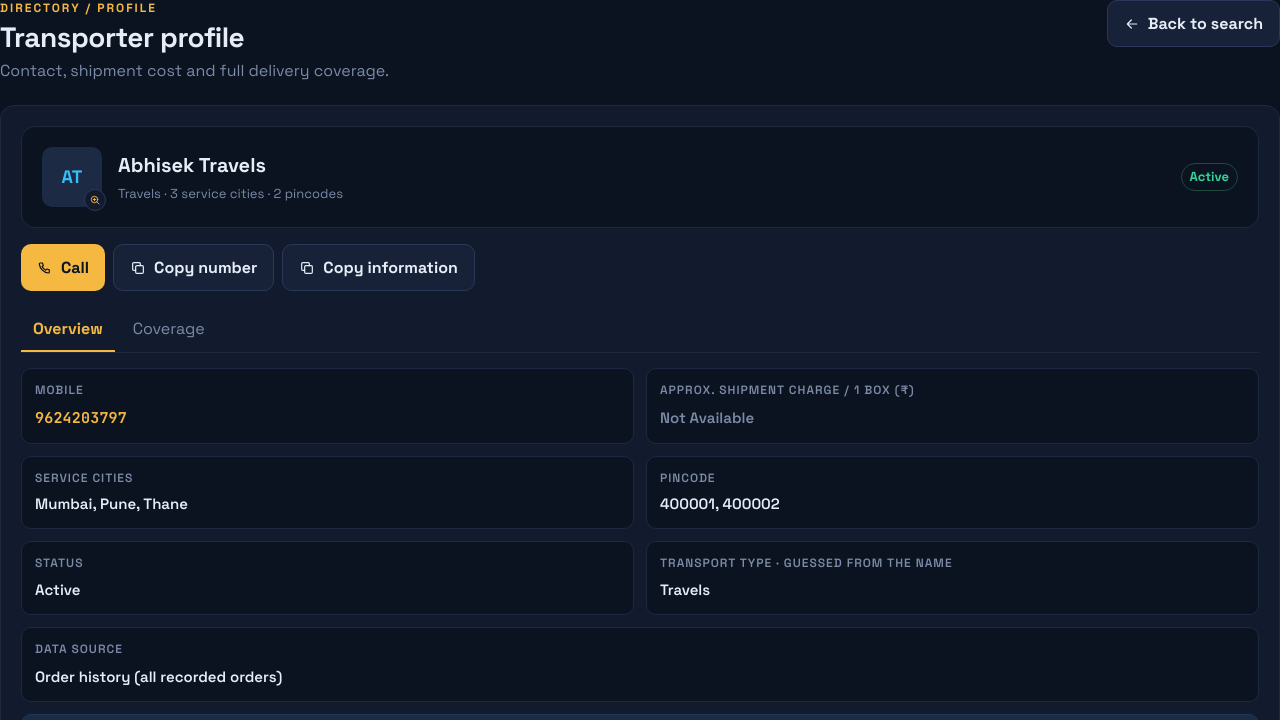
Test: Transporter profile › shows name, mobile, service cities, pincodes, status and transport type
The width and height of the screenshot is (1280, 720).
Expected: the heading "Transporter profile" is shown, [0,19,244,55]
Expected: the heading "Abhisek Travels" is shown, [118,152,266,178]
Click the tab "Coverage". click: (169, 330)
box: [121,307,217,352]
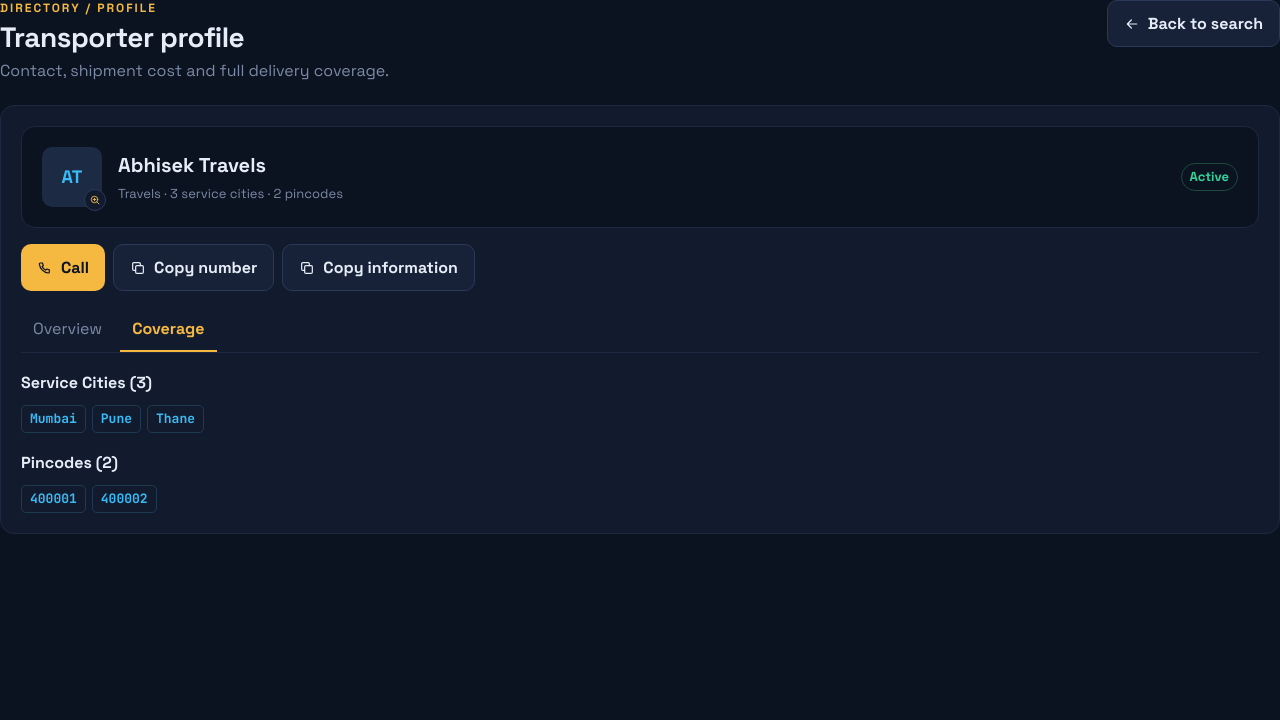
Expected: the heading "Service Cities (3)" is shown, [21,372,152,393]
Expected: the heading "Pincodes (2)" is shown, [21,452,118,473]
